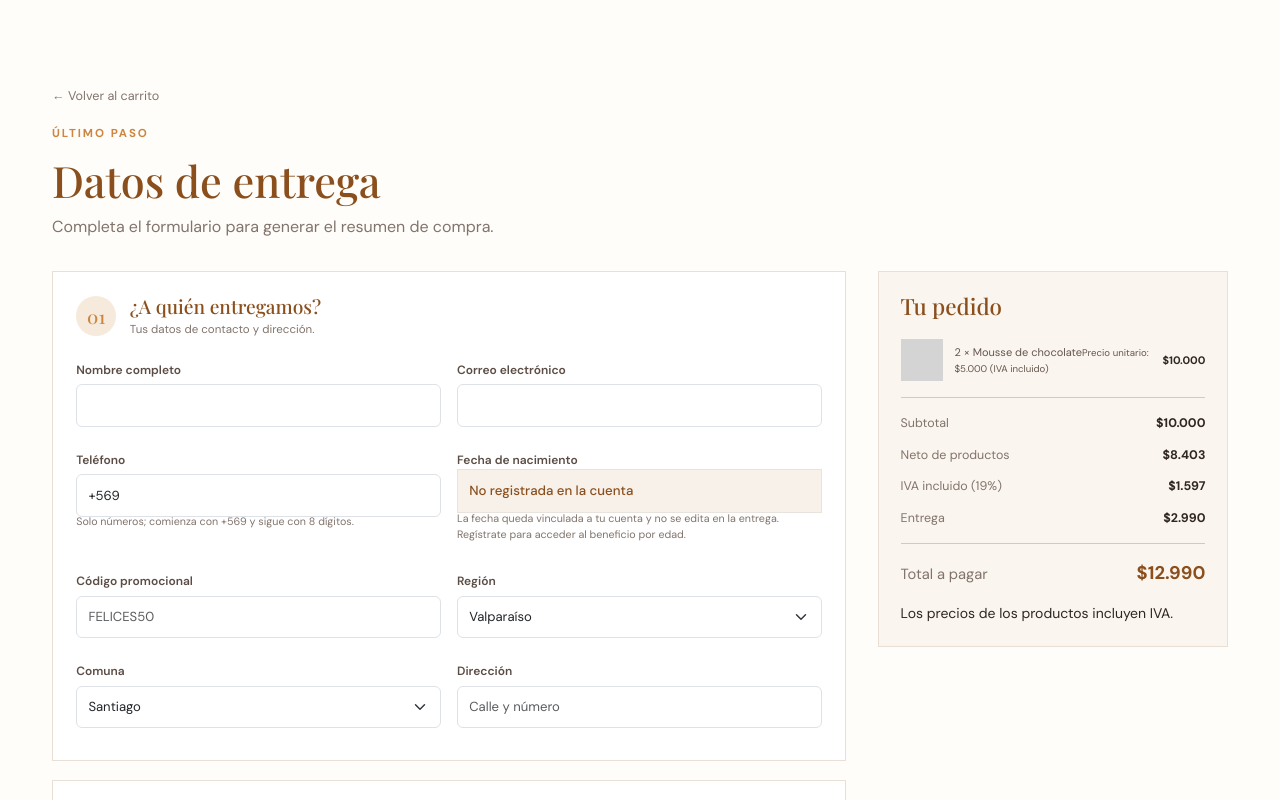
formulario de compra › actualiza la comuna cuando se selecciona otra región
Step 1. Select "Valparaíso" in the dropdown named "region" → (639, 617), box left=457, top=596, right=822, bottom=638
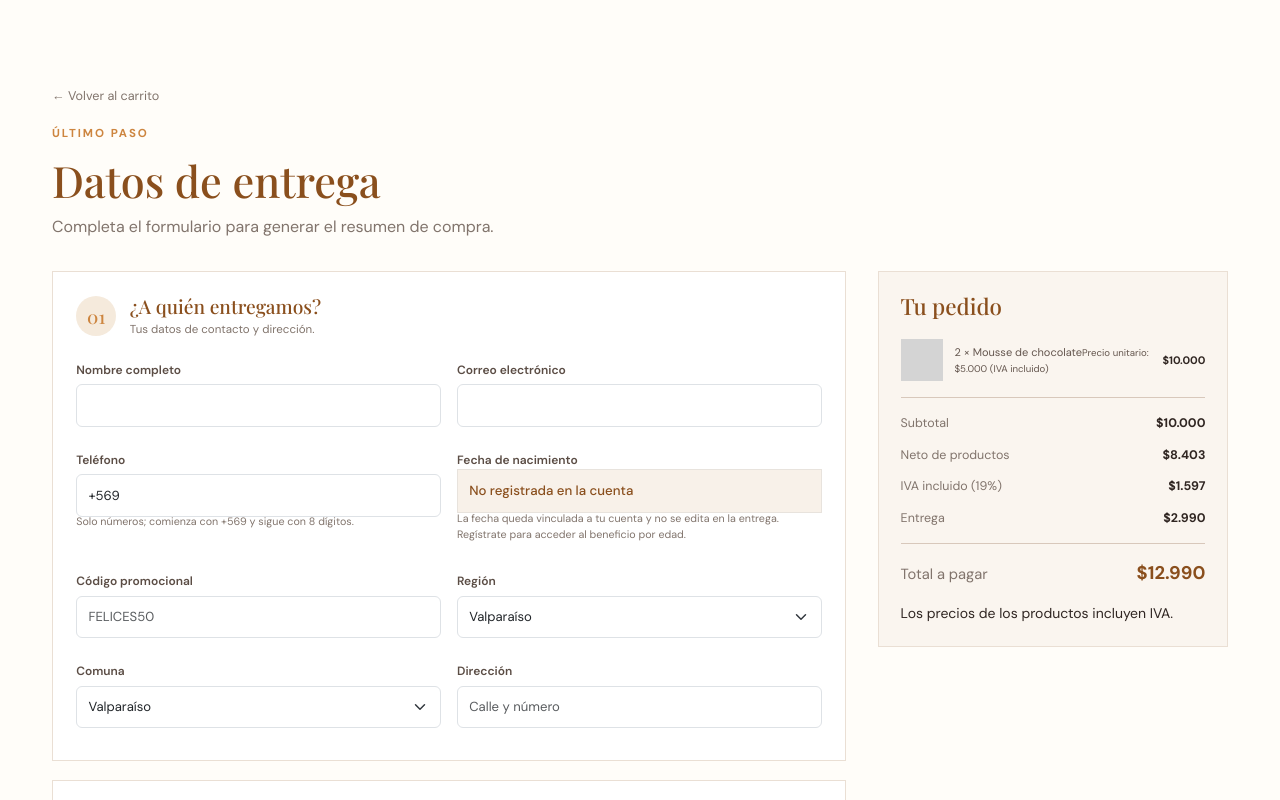
Check: the dropdown named "commune" shows "Valparaíso", box left=76, top=686, right=441, bottom=728
